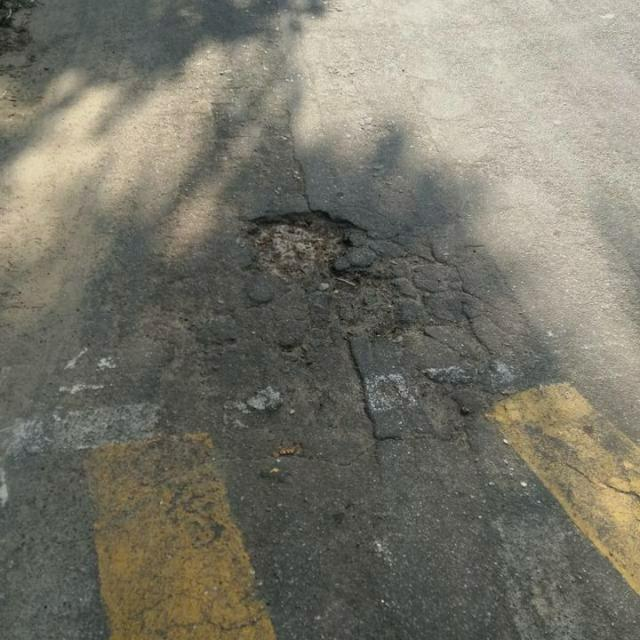Pothole: (234, 207, 368, 288), (318, 265, 406, 339), (412, 375, 472, 446)
